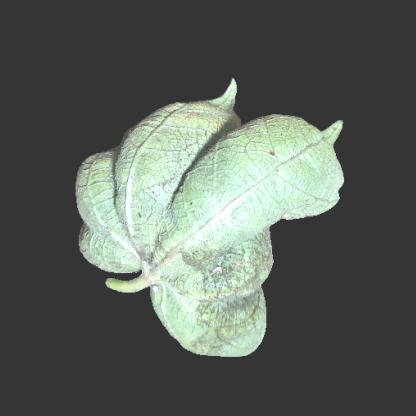curl_stage2: (212, 138, 322, 225), (122, 132, 181, 237), (80, 160, 121, 232), (160, 101, 228, 133), (185, 164, 209, 240), (158, 284, 196, 330), (87, 238, 134, 268)
sooty: (199, 245, 267, 345)
